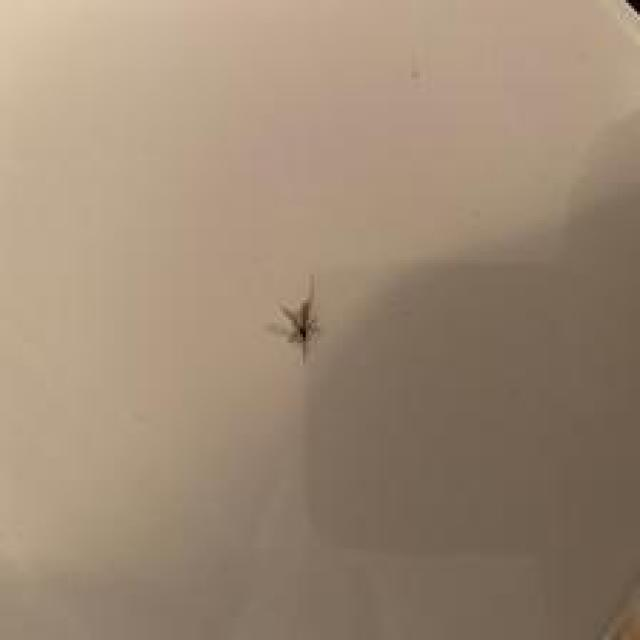Culex: (273, 273, 321, 364)
